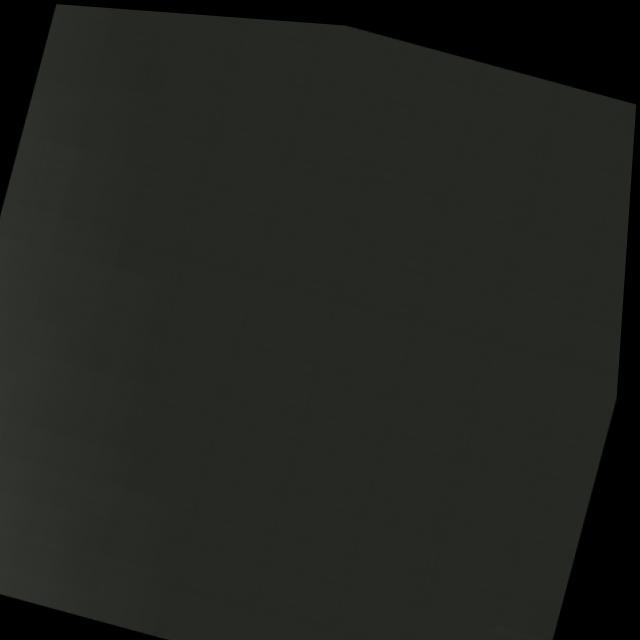metal-plates: (1, 4, 638, 640)
